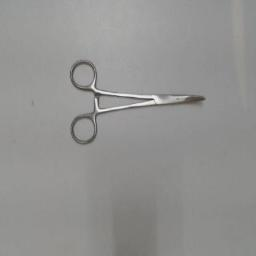Crile Artery Forceps: (68, 54, 210, 144)
